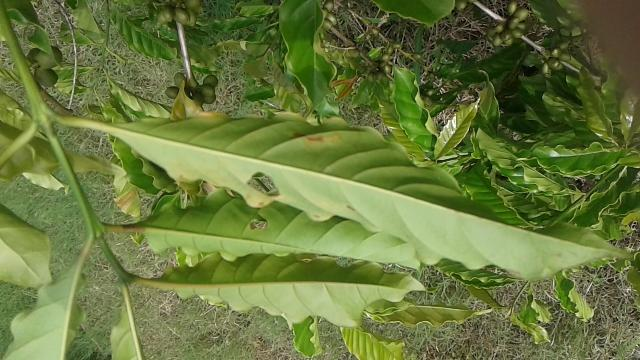rust_level_2: (106, 108, 640, 284)
